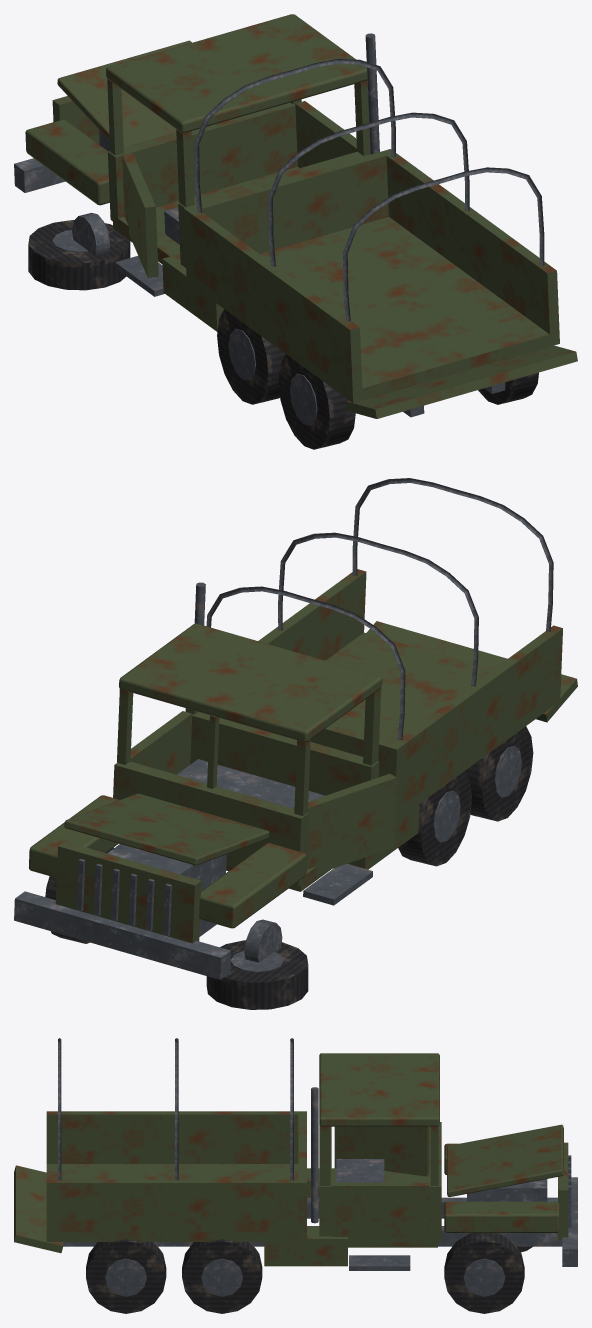
File: map_wrecked_truck.glb
The picture shows the model from 3 angles, top to bottom: view 1: azimuth 30°, elevation 25°; view 2: azimuth 150°, elevation 25°; view 3: azimuth 270°, elevation 25°; orthographic projection. The views are drawn at different scales.
Parts seen in each view (by area): view 1: truck_olive_body, truck_chassis, truck_tires; view 2: truck_olive_body, truck_chassis, truck_tires; view 3: truck_olive_body, truck_chassis, truck_tires.
Boxes of the visible parts, x1,y1,x2,y2 form: truck_olive_body: [25, 14, 577, 418]; truck_chassis: [14, 33, 544, 425]; truck_tires: [28, 220, 538, 449]; truck_olive_body: [29, 569, 577, 943]; truck_chassis: [14, 478, 553, 979]; truck_tires: [45, 726, 533, 1009]; truck_olive_body: [14, 1053, 568, 1266]; truck_chassis: [58, 1038, 577, 1296]; truck_tires: [86, 1163, 532, 1313].
Bounding box in the file's own units: 2.53 × 2.73 × 6.45.
3 materials, 3 textured.
